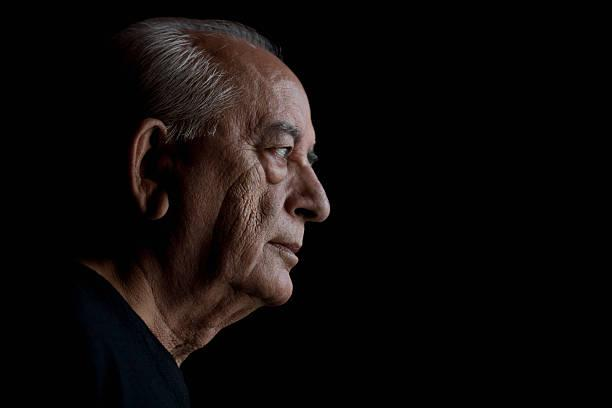Human: (32, 12, 334, 385)
